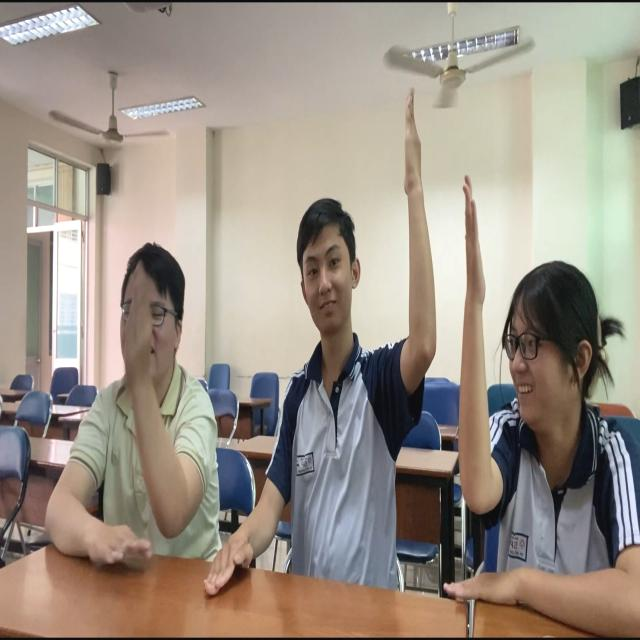raise_hand: (243, 81, 442, 590), (453, 162, 640, 640), (32, 230, 216, 585)
